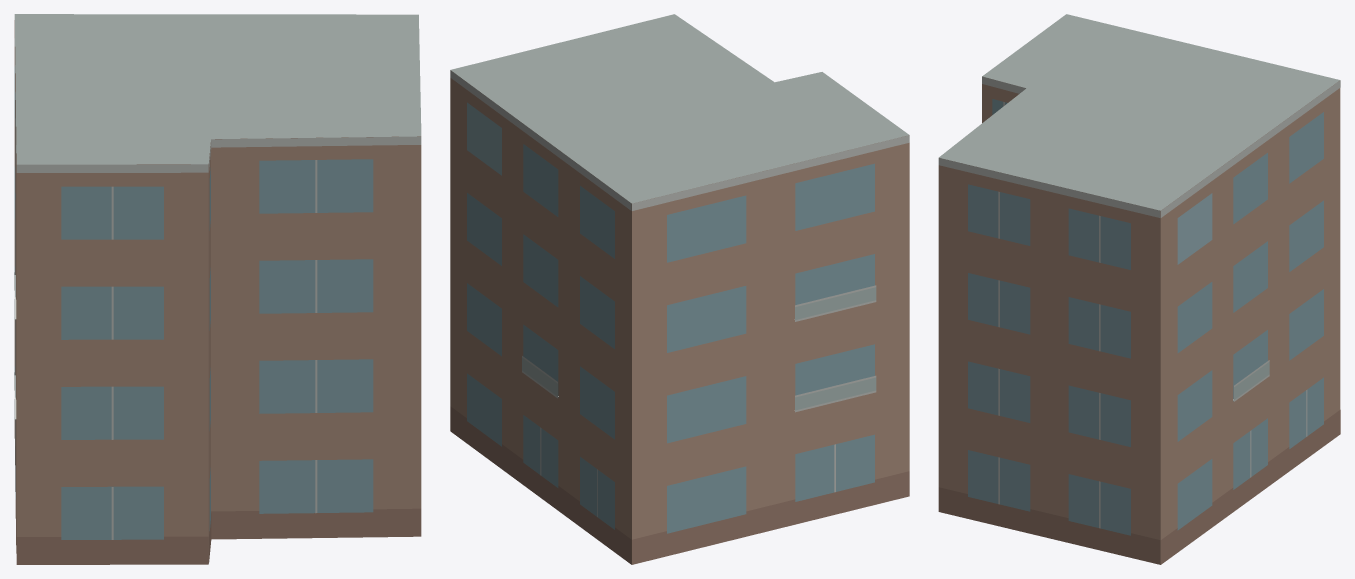
The model's file is survey-upis-32718942.glb.
The picture shows the model from 3 angles, left to right: view 1: azimuth 30°, elevation 25°; view 2: azimuth 150°, elevation 25°; view 3: azimuth 270°, elevation 25°; orthographic projection. The views are drawn at different scales.
Parts seen in each view (by area): view 1: survey-upis-32718942.tmp; view 2: survey-upis-32718942.tmp; view 3: survey-upis-32718942.tmp.
Boxes of the visible parts, left/top/right/bottom form: survey-upis-32718942.tmp: left=14, top=14, right=421, bottom=564; survey-upis-32718942.tmp: left=450, top=14, right=909, bottom=564; survey-upis-32718942.tmp: left=938, top=14, right=1340, bottom=564.
Size of the model in its own units: 13.77 by 11.55 by 11.89.
